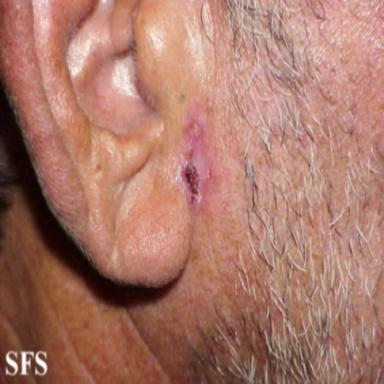basal-cell-carcinoma: (176, 104, 214, 214)
